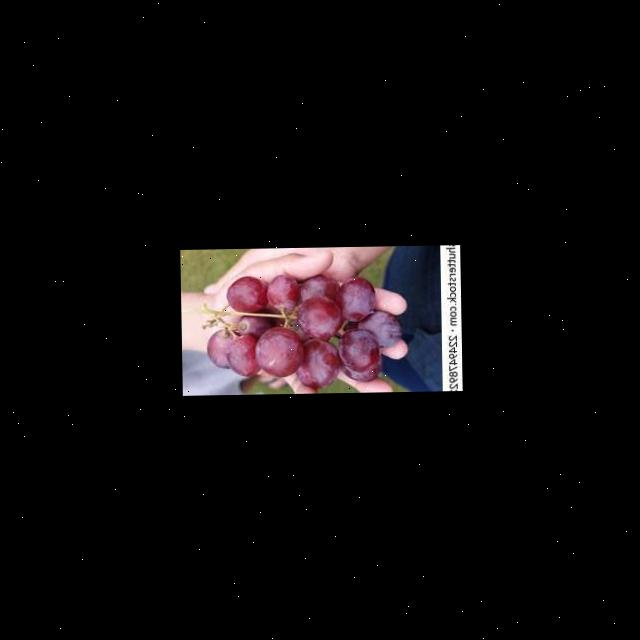grape: (198, 270, 407, 394)
